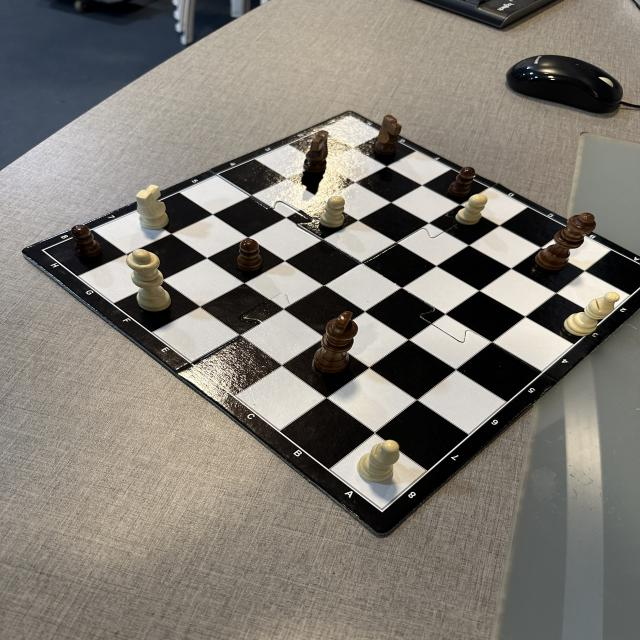Black-King: (314, 310, 359, 373)
Black-Knight: (374, 115, 402, 155), (304, 130, 328, 172)
Black-Pawn: (71, 225, 102, 258), (447, 167, 475, 195), (237, 238, 261, 270)
Black-Queen: (535, 213, 597, 270)
White-Bishop: (564, 291, 620, 336), (357, 440, 400, 482)
White-Knight: (136, 184, 169, 230)
White-Pawn: (455, 194, 488, 226), (320, 196, 344, 228)
White-Queen: (126, 249, 172, 312)
